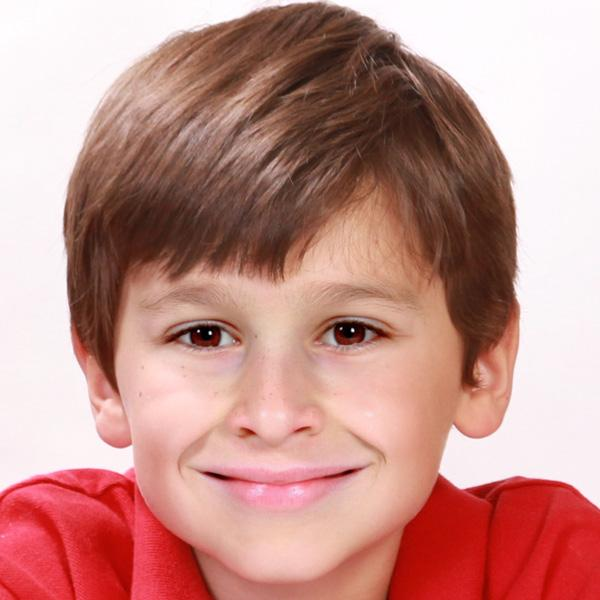Eyes: (304, 306, 404, 362), (155, 308, 248, 361)
